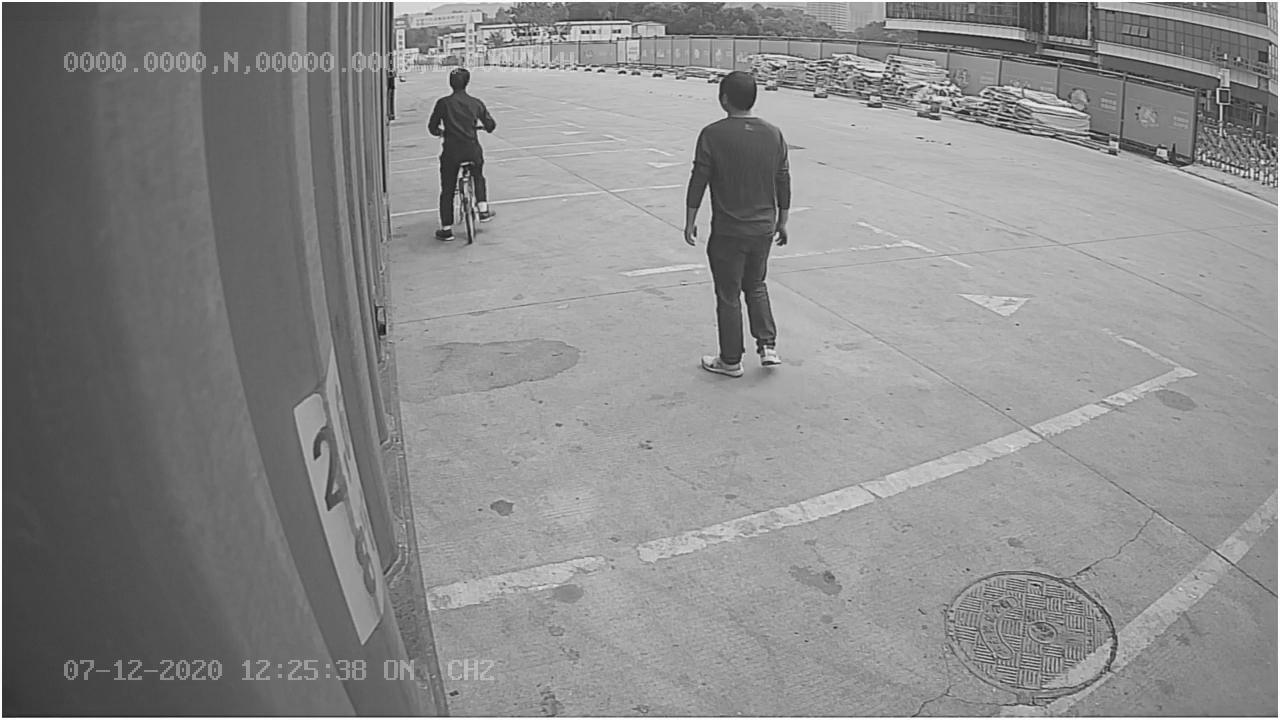person: (679, 67, 796, 380)
